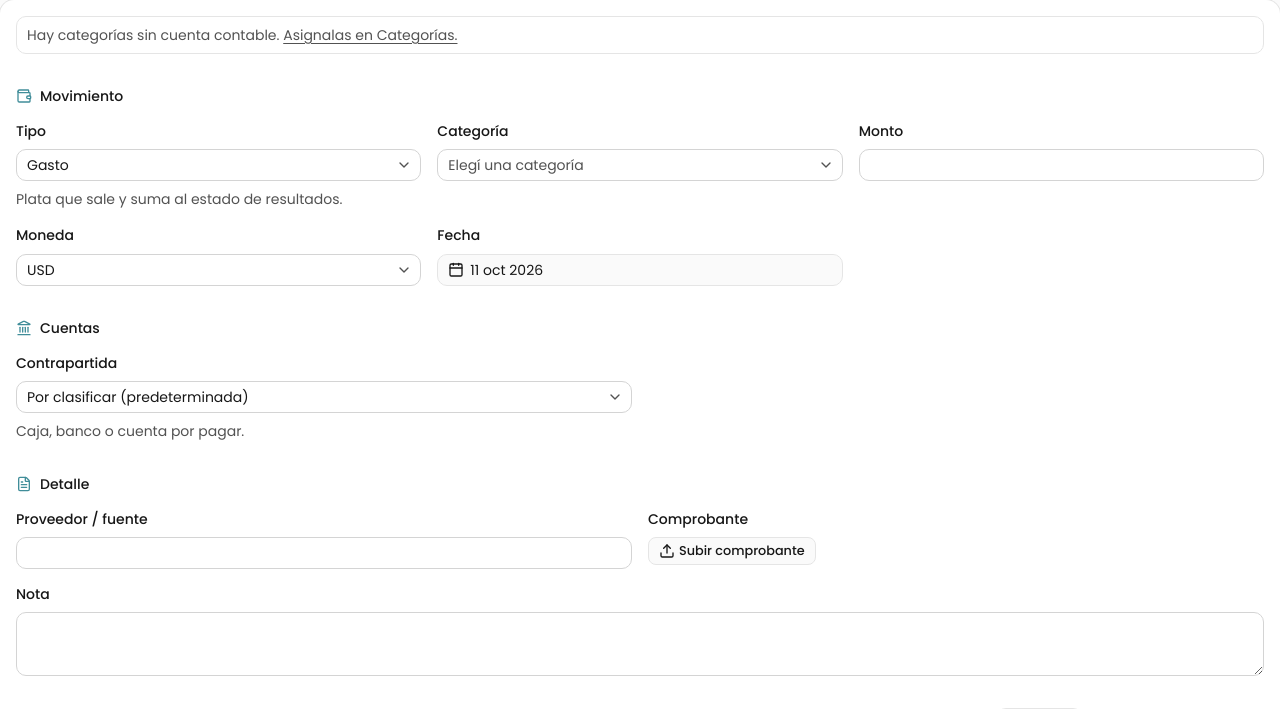
FinanceEntryForm — la categoría vive donde hay resultado › en "Transferencia" no hay selector de categoría
This screenshot has width=1280, height=709.
Click the dropdown named "Tipo" at [48, 165], box [16,149,421,181]
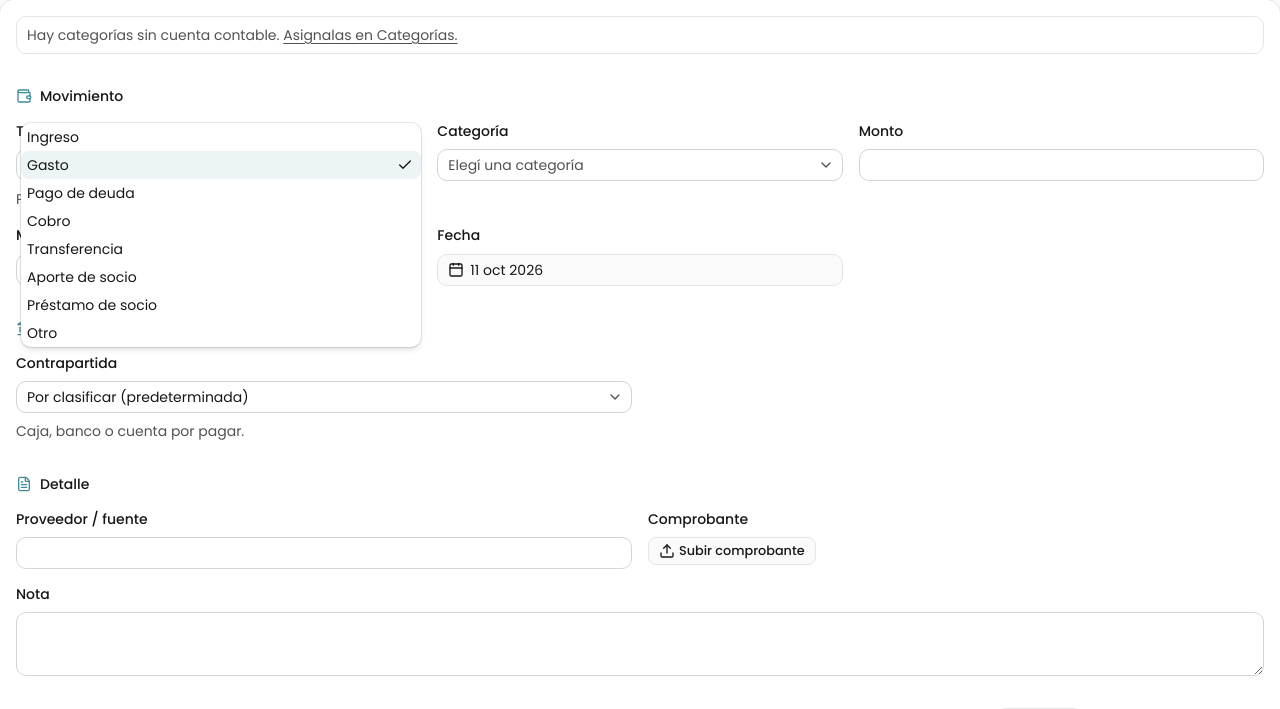
Click the option "Transferencia" at [75, 249], box [27,239,123,259]
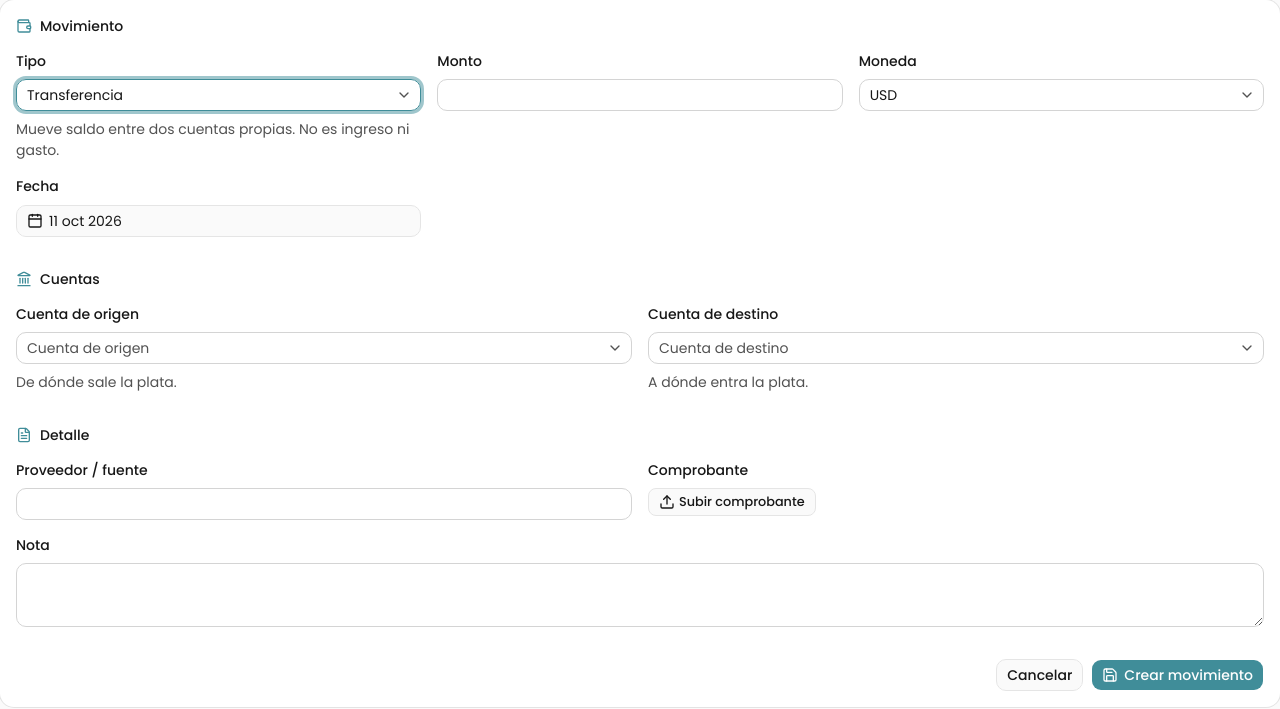
Now the link "Categoría" is gone
Now the text "Hay categorías sin cuenta contable." is gone
